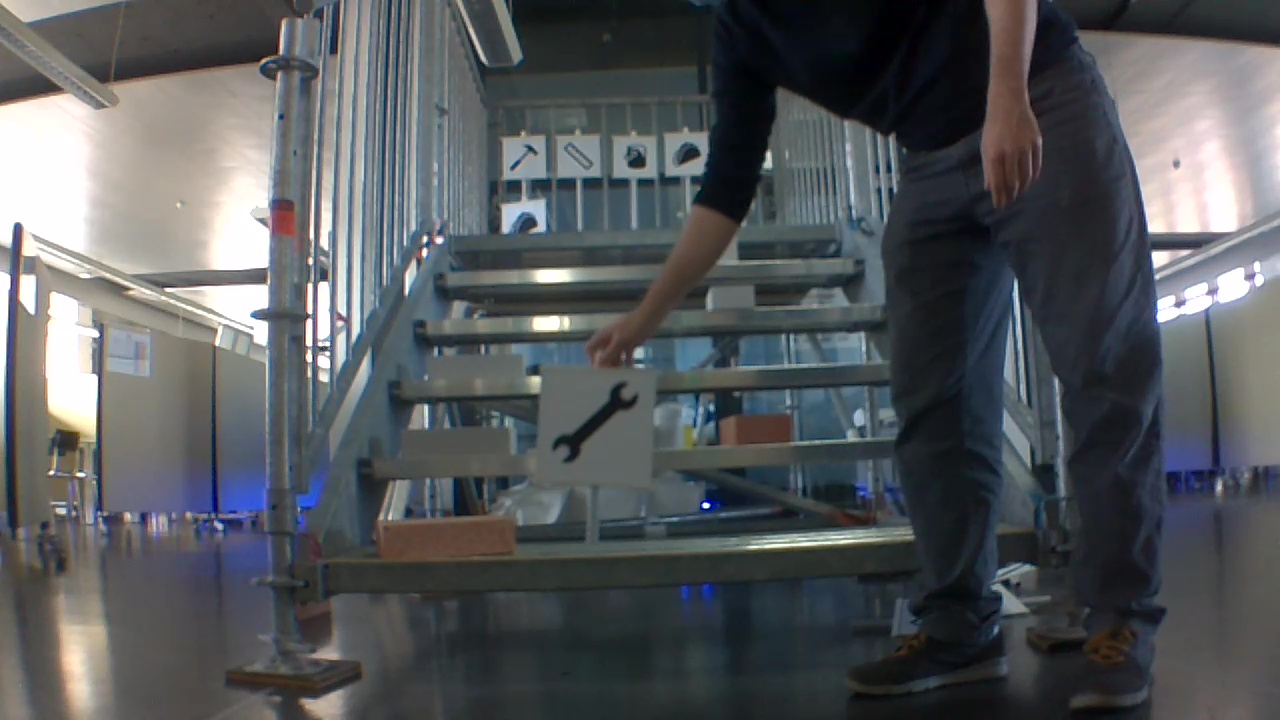brick: (377, 514, 515, 561), (401, 429, 516, 459), (424, 355, 527, 381), (719, 414, 793, 444), (704, 284, 754, 308)
bucket: (621, 142, 650, 171)
hammer: (505, 140, 539, 174)
ruler: (557, 141, 595, 172)
taco: (504, 209, 541, 236), (670, 139, 702, 166)
wrench: (544, 374, 641, 471)
